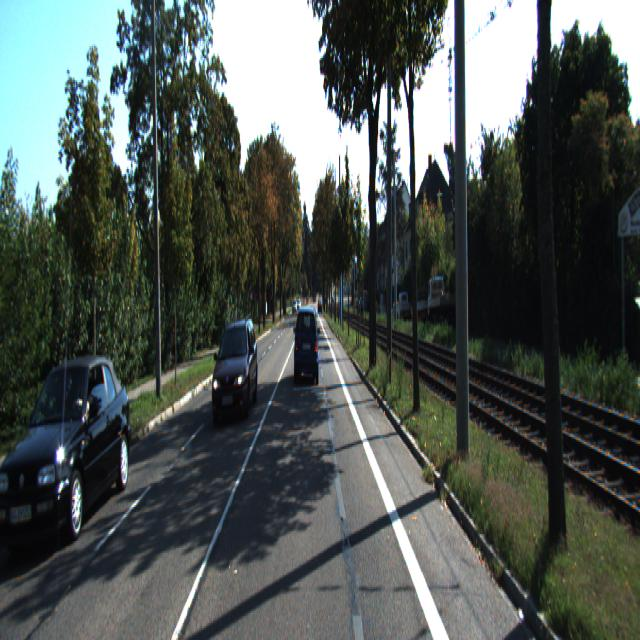Car: (5, 350, 137, 556), (210, 318, 258, 428), (294, 304, 320, 387), (427, 272, 456, 327), (411, 285, 431, 324)
